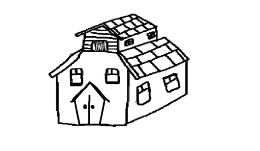closed_window: (162, 72, 181, 93), (136, 81, 151, 105), (69, 67, 83, 86), (105, 68, 120, 84), (91, 41, 108, 52), (125, 38, 134, 47), (146, 31, 156, 39)
door: (69, 81, 110, 131)
roof: (45, 36, 189, 80), (75, 14, 157, 39)
wall: (53, 49, 131, 128)
